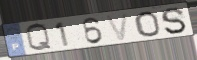1: (53, 21, 71, 48)
6: (81, 17, 105, 46)
O: (133, 11, 162, 38)
Q: (25, 22, 54, 53)
S: (160, 7, 189, 36)
V: (104, 12, 130, 42)
